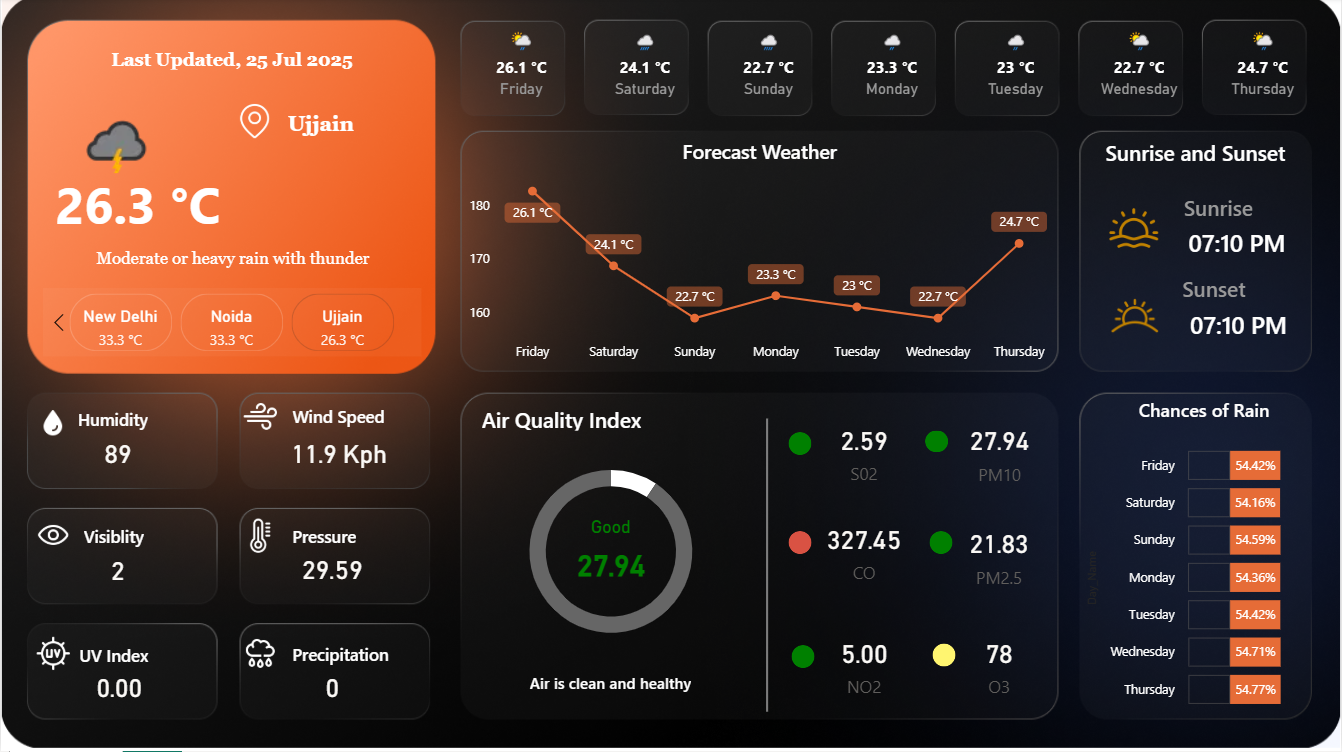

The dashboard page shown, as its layout file describes it:
{"tool":"powerbi","page":{"name":"Page 1","canvas":[1280,720],"ordinal":0},"visuals":[{"type":"donutChart","fields":{"Y":["Sum(Current.current.air_quality.pm10)","PM10 COLOR.Left_value_PM10"]},"box":[447.4,426.5,270.4,204.4],"z":0},{"type":"advancedSlicerVisual","fields":{"Values":["Locatio.location.name"]},"box":[39.8,278.4,361.1,65.2],"z":1000},{"type":"shape","box":[39.8,159.1,181.3,74.8],"z":2000},{"type":"shape","box":[39.8,232.2,362.7,35],"z":3000},{"type":"shape","box":[39.8,30.2,361.1,58.9],"z":4000},{"type":"shape","box":[248.1,97,120.9,47.7],"z":5000},{"type":"image","box":[211.6,89.1,42.9,58.9],"z":6000},{"type":"cardVisual","fields":{"Data":["Min(Current.current.condition.icon)"]},"box":[39.8,79.5,127.2,93.8],"z":7000},{"type":"image","box":[27,388.1,44.5,36.6],"z":8000},{"type":"image","box":[221.1,378.6,54.1,44.5],"z":9000},{"type":"image","box":[22.3,604.4,54.1,44.5],"z":10000},{"type":"image","box":[221.1,604.4,54.1,44.5],"z":11000},{"type":"image","box":[221.1,493.1,54.1,42.9],"z":12000},{"type":"image","box":[22.3,491.5,54.1,44.5],"z":13000},{"type":"shape","box":[70,381.7,103.4,41.4],"z":14000},{"type":"shape","box":[71.6,604.5,97.4,41.5],"z":15000},{"type":"shape","box":[275,491.3,97.4,37.2],"z":16000},{"type":"shape","box":[76.3,494.7,97,41.4],"z":17000},{"type":"shape","box":[275.2,378.6,109.8,44.5],"z":18000},{"type":"shape","box":[275,601.6,126.1,43],"z":19000},{"type":"card","fields":{"Values":["Sum(Current.current.humidity)"]},"box":[58.9,412,105,46.1],"z":20000},{"type":"card","fields":{"Values":["Sum(Current.current.uv)"]},"box":[60.4,636.2,105,46.1],"z":21000},{"type":"card","fields":{"Values":["Sum(Current.current.vis_km)"]},"box":[58.9,524.9,105,46.1],"z":22000},{"type":"card","fields":{"Values":["Sum(Current.current.precip_in)"]},"box":[264,636.2,105,46.1],"z":23000},{"type":"card","fields":{"Values":["Sum(Current.current.pressure_in)"]},"box":[264,523.3,105,46.1],"z":24000},{"type":"card","fields":{"Values":["_Measure.Wind_speed"]},"box":[270.4,412,103.4,46.1],"z":25000},{"type":"advancedSlicerVisual","fields":{"Values":["Forecast_day.Day_Name"]},"box":[437.4,23.9,830.3,89.1],"z":26000},{"type":"lineChart","title":"Forecast Weather","fields":{"Y":["Sum(Forecast_day.forecast.forecastday.day.avgtemp_c)"],"Category":["Forecast_day.Day_Name"]},"box":[441.5,134.9,566.7,221.5],"z":27000},{"type":"shape","box":[1049.9,133.2,181.4,28.9],"z":28000},{"type":"shape","box":[1123,213.1,114.5,41.4],"z":29000},{"type":"shape","box":[1124.6,292.7,114.5,41.4],"z":30000},{"type":"shape","box":[1127.7,186.1,119.3,28.6],"z":31000},{"type":"shape","box":[1126.2,264,119.3,28.6],"z":32000},{"type":"image","box":[1046.6,192.5,70,57.3],"z":33000},{"type":"image","box":[1046.6,268.8,71.6,70],"z":34000},{"type":"hundredPercentStackedBarChart","title":"Chances of Rain","fields":{"Category":["Forecast_day.Day_Name"],"Y":["Sum(Forecast_day.forecast.forecastday.day.daily_chance_of_rain)","_Measure.Left_value_rain"]},"box":[1031,381.9,235.2,312.3],"z":35000},{"type":"shape","box":[444,387.6,182.5,28.2],"z":36000},{"type":"card","fields":{"Values":["Sum(Current.current.air_quality.o3)"]},"box":[904,591.8,97.8,90.3],"z":37000},{"type":"card","fields":{"Values":["Sum(Current.current.air_quality.co)"]},"box":[774.2,482.7,97.8,90.3],"z":38000},{"type":"card","fields":{"Values":["Sum(Current.current.air_quality.so2)"]},"box":[774.2,388.6,97.8,90.3],"z":39000},{"type":"card","fields":{"Values":["Sum(Current.current.air_quality.pm10)"]},"box":[903.5,388.1,98.6,90.7],"z":40000},{"type":"card","fields":{"Values":["Sum(Current.current.air_quality.no2)"]},"box":[774.2,592.2,97.8,90.3],"z":41000},{"type":"card","fields":{"Values":["Sum(Current.current.air_quality.pm2_5)"]},"box":[904,486.6,97.8,90.3],"z":42000},{"type":"shape","box":[751.7,415.3,22,22],"z":43000},{"type":"shape","box":[751.7,509.4,22,22],"z":44000},{"type":"shape","box":[887.1,510.4,22,22],"z":45000},{"type":"shape","box":[754.2,618.3,22,22],"z":46000},{"type":"shape","box":[883,414.7,22.3,20.7],"z":47000},{"type":"shape","box":[889.4,617.1,22,22],"z":48000},{"type":"shape","box":[709.7,402.3,45.1,280],"z":49000},{"type":"card","fields":{"Values":["Sum(Current.current.air_quality.pm10)"]},"box":[529.5,495.7,104.6,72.4],"z":50000},{"type":"shape","box":[447.4,627.7,270.4,54.7],"z":51000}]}

Visuals, with their boxes in screenshot pixels (x1, y1, x2, y2), scaled from the page's 1280x720 canvas onto the 1342x752 screenshot:
donutChart - Sum(Current.current.air_quality.pm10) x PM10 COLOR.Left_value_PM10: <bbox>469, 445, 753, 659</bbox>
advancedSlicerVisual - Locatio.location.name: <bbox>42, 291, 420, 359</bbox>
shape: <bbox>42, 166, 232, 244</bbox>
shape: <bbox>42, 243, 422, 279</bbox>
shape: <bbox>42, 32, 420, 93</bbox>
shape: <bbox>260, 101, 387, 151</bbox>
image: <bbox>222, 93, 267, 155</bbox>
cardVisual - Min(Current.current.condition.icon): <bbox>42, 83, 175, 181</bbox>
image: <bbox>28, 405, 75, 444</bbox>
image: <bbox>232, 395, 289, 442</bbox>
image: <bbox>23, 631, 80, 678</bbox>
image: <bbox>232, 631, 289, 678</bbox>
image: <bbox>232, 515, 289, 560</bbox>
image: <bbox>23, 513, 80, 560</bbox>
shape: <bbox>73, 399, 182, 442</bbox>
shape: <bbox>75, 631, 177, 675</bbox>
shape: <bbox>288, 513, 390, 552</bbox>
shape: <bbox>80, 517, 182, 560</bbox>
shape: <bbox>289, 395, 404, 442</bbox>
shape: <bbox>288, 628, 421, 673</bbox>
card - Sum(Current.current.humidity): <bbox>62, 430, 172, 478</bbox>
card - Sum(Current.current.uv): <bbox>63, 664, 173, 713</bbox>
card - Sum(Current.current.vis_km): <bbox>62, 548, 172, 596</bbox>
card - Sum(Current.current.precip_in): <bbox>277, 664, 387, 713</bbox>
card - Sum(Current.current.pressure_in): <bbox>277, 547, 387, 595</bbox>
card - _Measure.Wind_speed: <bbox>283, 430, 392, 478</bbox>
advancedSlicerVisual - Forecast_day.Day_Name: <bbox>459, 25, 1329, 118</bbox>
"Forecast Weather" lineChart: <bbox>463, 141, 1057, 372</bbox>
shape: <bbox>1101, 139, 1291, 169</bbox>
shape: <bbox>1177, 223, 1297, 266</bbox>
shape: <bbox>1179, 306, 1299, 349</bbox>
shape: <bbox>1182, 194, 1307, 224</bbox>
shape: <bbox>1181, 276, 1306, 306</bbox>
image: <bbox>1097, 201, 1171, 261</bbox>
image: <bbox>1097, 281, 1172, 354</bbox>
"Chances of Rain" hundredPercentStackedBarChart: <bbox>1081, 399, 1328, 725</bbox>
shape: <bbox>466, 405, 657, 434</bbox>
card - Sum(Current.current.air_quality.o3): <bbox>948, 618, 1050, 712</bbox>
card - Sum(Current.current.air_quality.co): <bbox>812, 504, 914, 598</bbox>
card - Sum(Current.current.air_quality.so2): <bbox>812, 406, 914, 500</bbox>
card - Sum(Current.current.air_quality.pm10): <bbox>947, 405, 1051, 500</bbox>
card - Sum(Current.current.air_quality.no2): <bbox>812, 619, 914, 713</bbox>
card - Sum(Current.current.air_quality.pm2_5): <bbox>948, 508, 1050, 603</bbox>
shape: <bbox>788, 434, 811, 457</bbox>
shape: <bbox>788, 532, 811, 555</bbox>
shape: <bbox>930, 533, 953, 556</bbox>
shape: <bbox>791, 646, 814, 669</bbox>
shape: <bbox>926, 433, 949, 455</bbox>
shape: <bbox>932, 645, 956, 668</bbox>
shape: <bbox>744, 420, 791, 713</bbox>
card - Sum(Current.current.air_quality.pm10): <bbox>555, 518, 665, 593</bbox>
shape: <bbox>469, 656, 753, 713</bbox>
